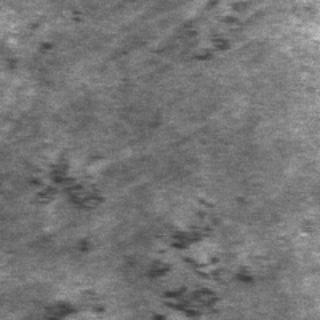rolled pit: (138, 194, 252, 318), (29, 148, 105, 255), (158, 0, 250, 62), (32, 285, 108, 317)
